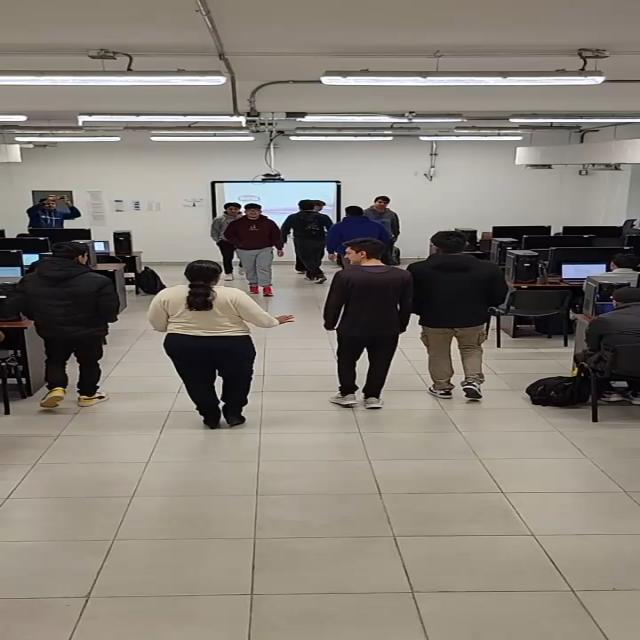Persona: (152, 258, 276, 428), (24, 244, 110, 408), (411, 231, 490, 400), (334, 241, 399, 412), (230, 204, 278, 278), (294, 198, 337, 272), (23, 194, 82, 230), (335, 206, 394, 242), (372, 195, 414, 239), (216, 201, 241, 237)
